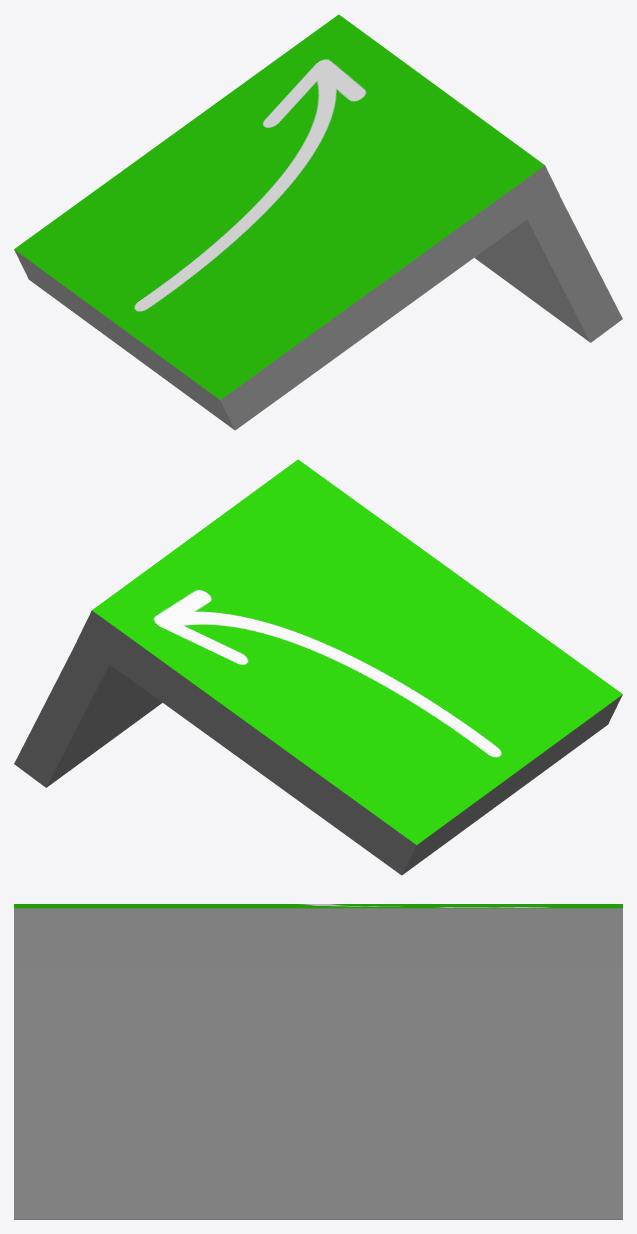
The model's file is fastL.fbx.
The picture shows the model from 3 angles, top to bottom: view 1: azimuth 30°, elevation 25°; view 2: azimuth 150°, elevation 25°; view 3: azimuth 270°, elevation 25°; orthographic projection. The views are drawn at different scales.
Parts seen in each view (by area): view 1: sign_back; view 2: sign_back; view 3: sign_back.
Boxes of the visible parts, x1,y1,x2,y2 form: sign_back: (14,14,622,430); sign_back: (14,459,622,875); sign_back: (14,904,622,1219).
Bounding box in the file's own units: 225 × 101 × 200.
